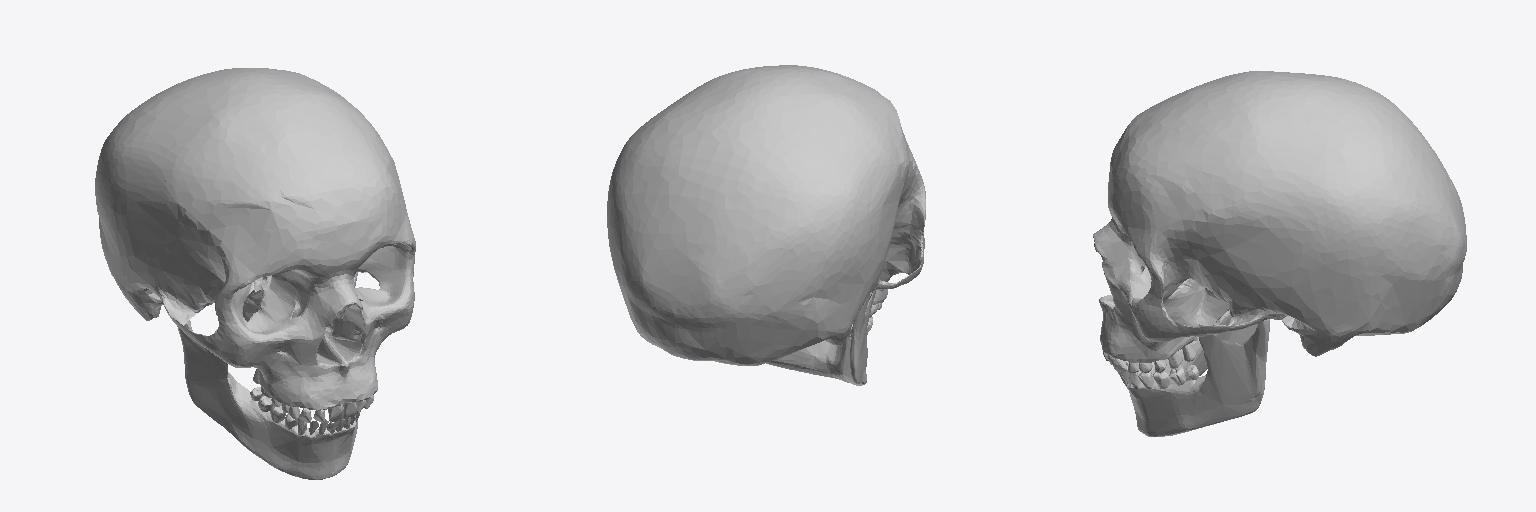
Rendered from skull2.obj.
3 renders of one model, left to right at view 1: azimuth 30°, elevation 25°; view 2: azimuth 150°, elevation 25°; view 3: azimuth 270°, elevation 25°, orthographic.
Parts seen in each view (by area): view 1: Skull; view 2: Skull; view 3: Skull.
Part boxes in pixels (bbox=[...]): Skull: bbox=[95, 68, 415, 479]; Skull: bbox=[607, 65, 925, 385]; Skull: bbox=[1093, 71, 1466, 436].
Bounding box in the file's own units: 8.55 × 11.53 × 11.4.